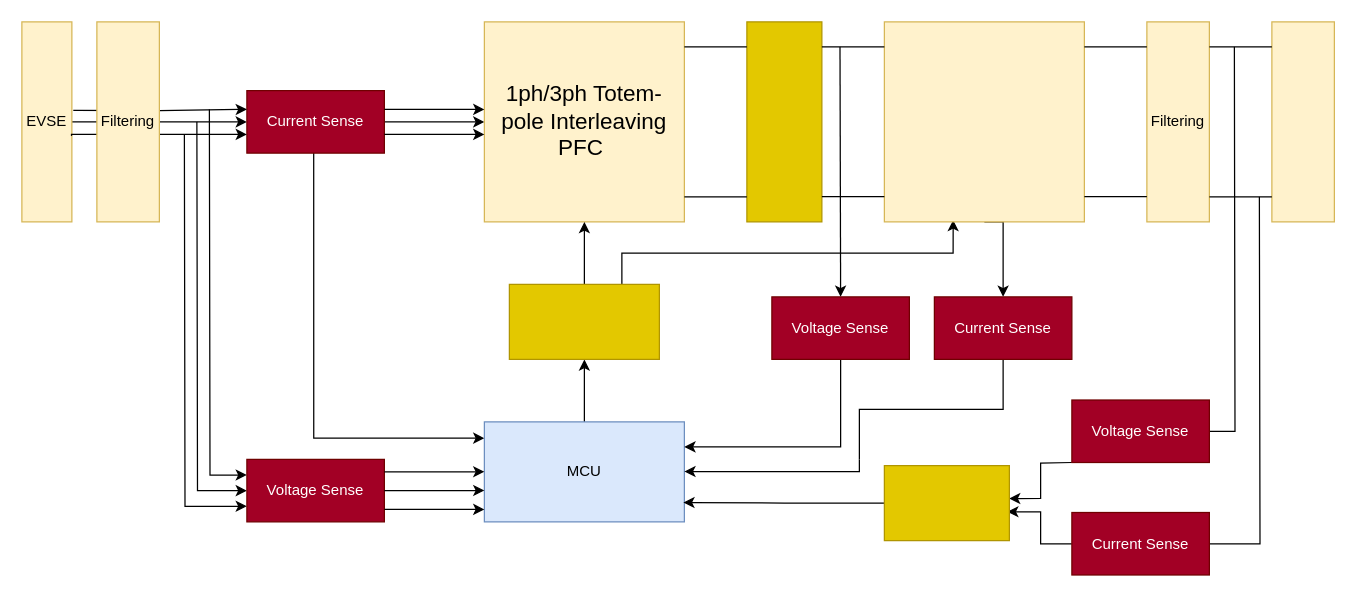
The diagram is 1356 pixels wide and 598 high, and some of its shapes have lost their labels. Each missing label, with the centre of its shape:
BAT: the point at 1302,121
DC-LINK: the point at 784,121
Gate Driver: the point at 583,321
Isolation: the point at 946,502
LLC Resonant Converter: the point at 983,121
